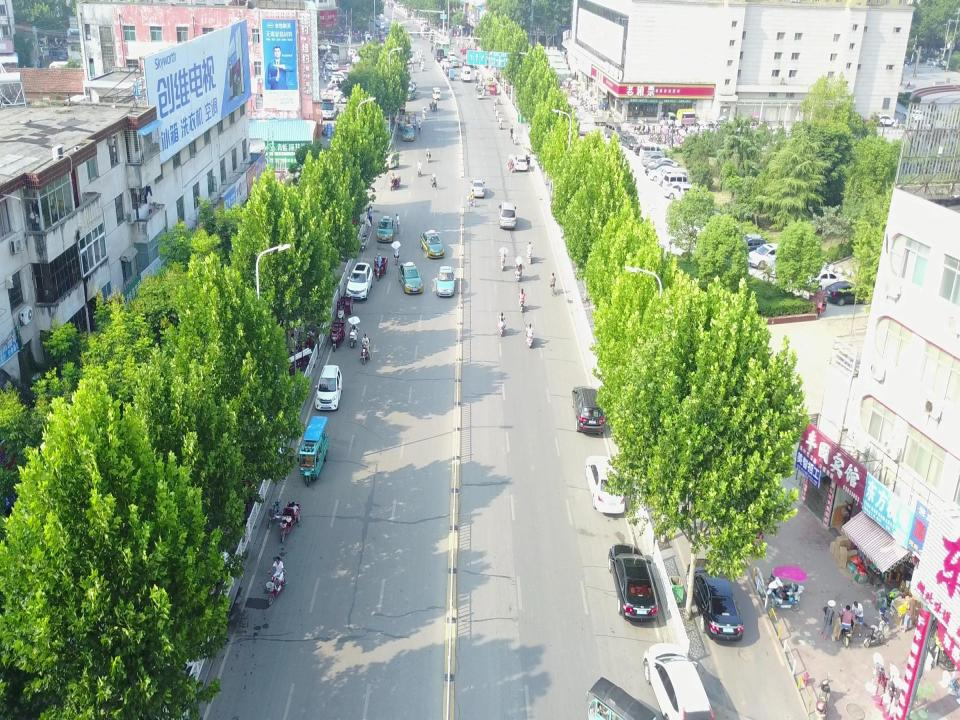bus: (435, 39, 451, 58)
car: (642, 641, 718, 720), (685, 556, 744, 642), (606, 540, 660, 624), (584, 454, 627, 517), (571, 384, 607, 435), (745, 242, 799, 272), (314, 364, 346, 412), (823, 280, 871, 307), (346, 262, 374, 302), (804, 267, 846, 293), (732, 233, 770, 258), (397, 261, 424, 295), (419, 229, 445, 259), (674, 183, 706, 207), (660, 180, 696, 201), (434, 265, 456, 298), (648, 165, 682, 183), (375, 216, 396, 243), (644, 163, 679, 178), (646, 157, 680, 171), (641, 153, 671, 168), (633, 142, 660, 156), (620, 132, 640, 150), (469, 178, 486, 198), (513, 154, 530, 171), (403, 124, 415, 141), (403, 87, 417, 101), (443, 65, 453, 76), (437, 22, 451, 29), (450, 58, 459, 68)
truck: (591, 110, 615, 126)
van: (656, 167, 689, 187), (662, 172, 692, 192), (498, 201, 516, 231), (638, 143, 666, 160), (604, 121, 626, 142), (460, 65, 472, 83), (433, 48, 445, 62), (440, 58, 450, 67), (447, 51, 455, 62)
